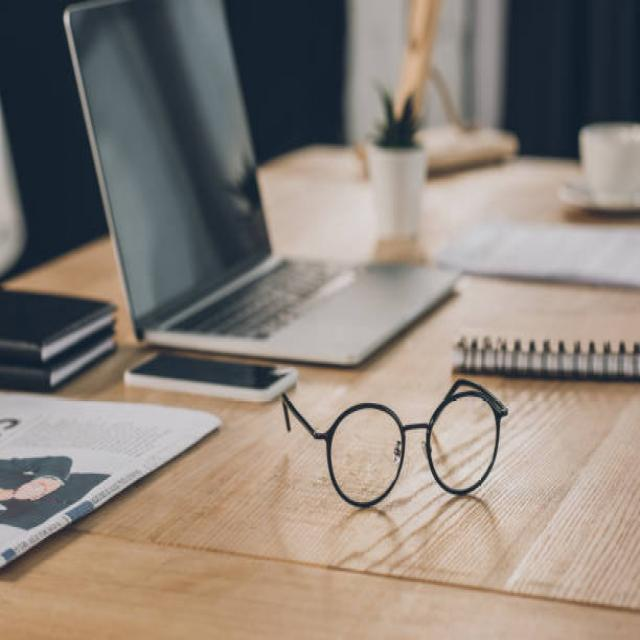glasses: (256, 364, 537, 540)
